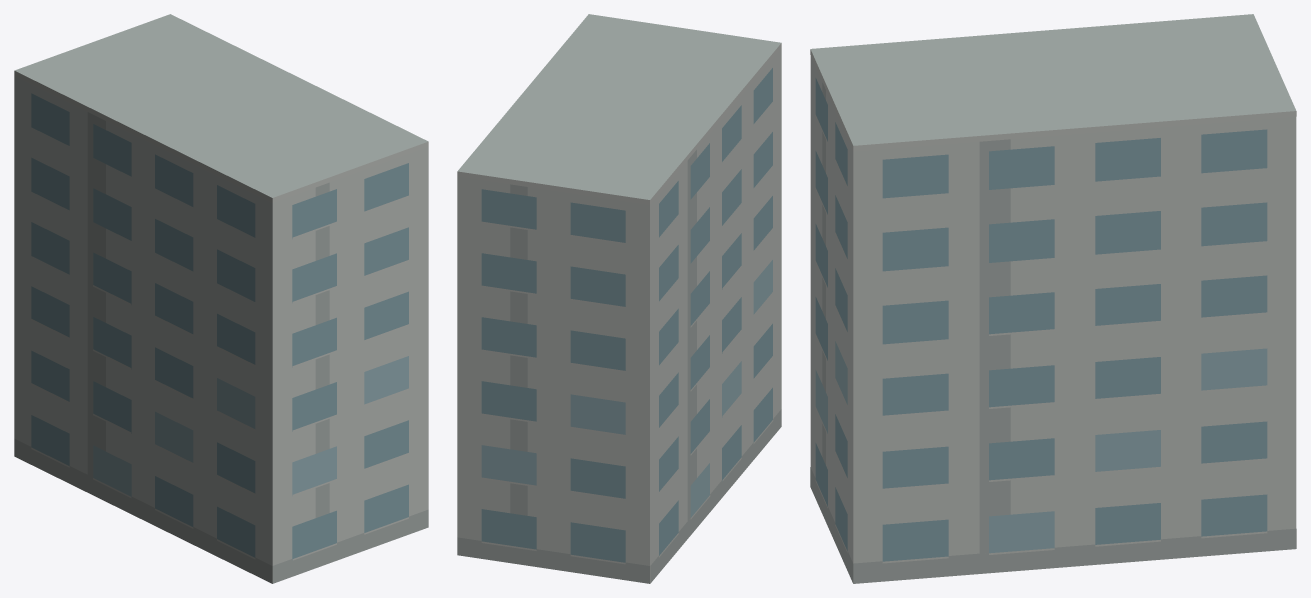
Rendered from survey-upis-32699087.glb.
3 renders of one model, left to right at view 1: azimuth 30°, elevation 25°; view 2: azimuth 150°, elevation 25°; view 3: azimuth 270°, elevation 25°, orthographic. The views are drawn at different scales.
Parts seen in each view (by area): view 1: survey-upis-32699087.tmp; view 2: survey-upis-32699087.tmp; view 3: survey-upis-32699087.tmp.
Part boxes in pixels (<box>): survey-upis-32699087.tmp: <box>14,14,428,583</box>; survey-upis-32699087.tmp: <box>457,14,781,583</box>; survey-upis-32699087.tmp: <box>810,14,1296,583</box>.
Bounding box in the file's own units: 11.82 × 18.3 × 18.41.
